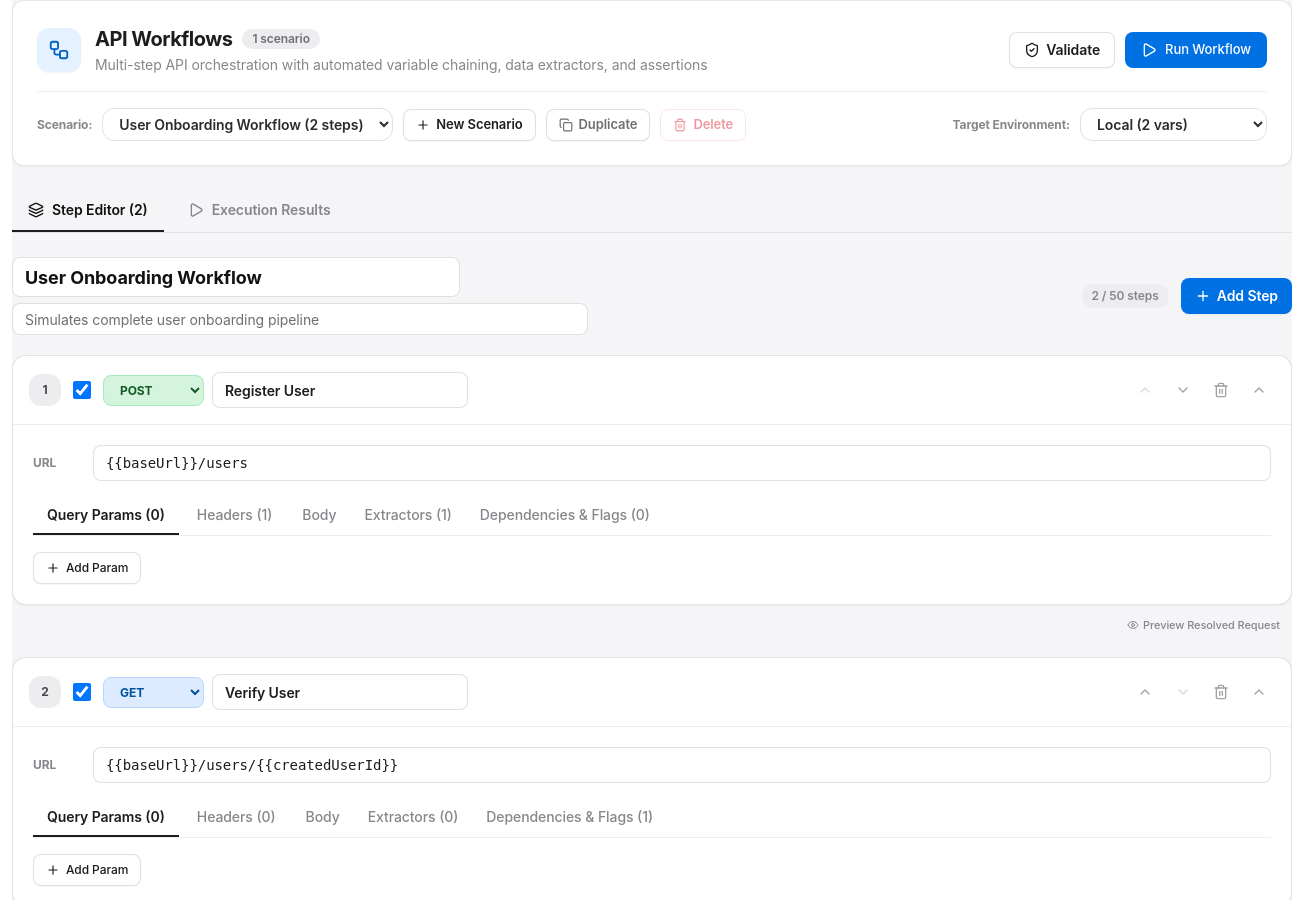
Test case: WorkflowsPage Component Tests › validates a workflow scenario structure via Validate button
Click the button "Validate". click: (1062, 50)
box: [1009,32,1115,68]
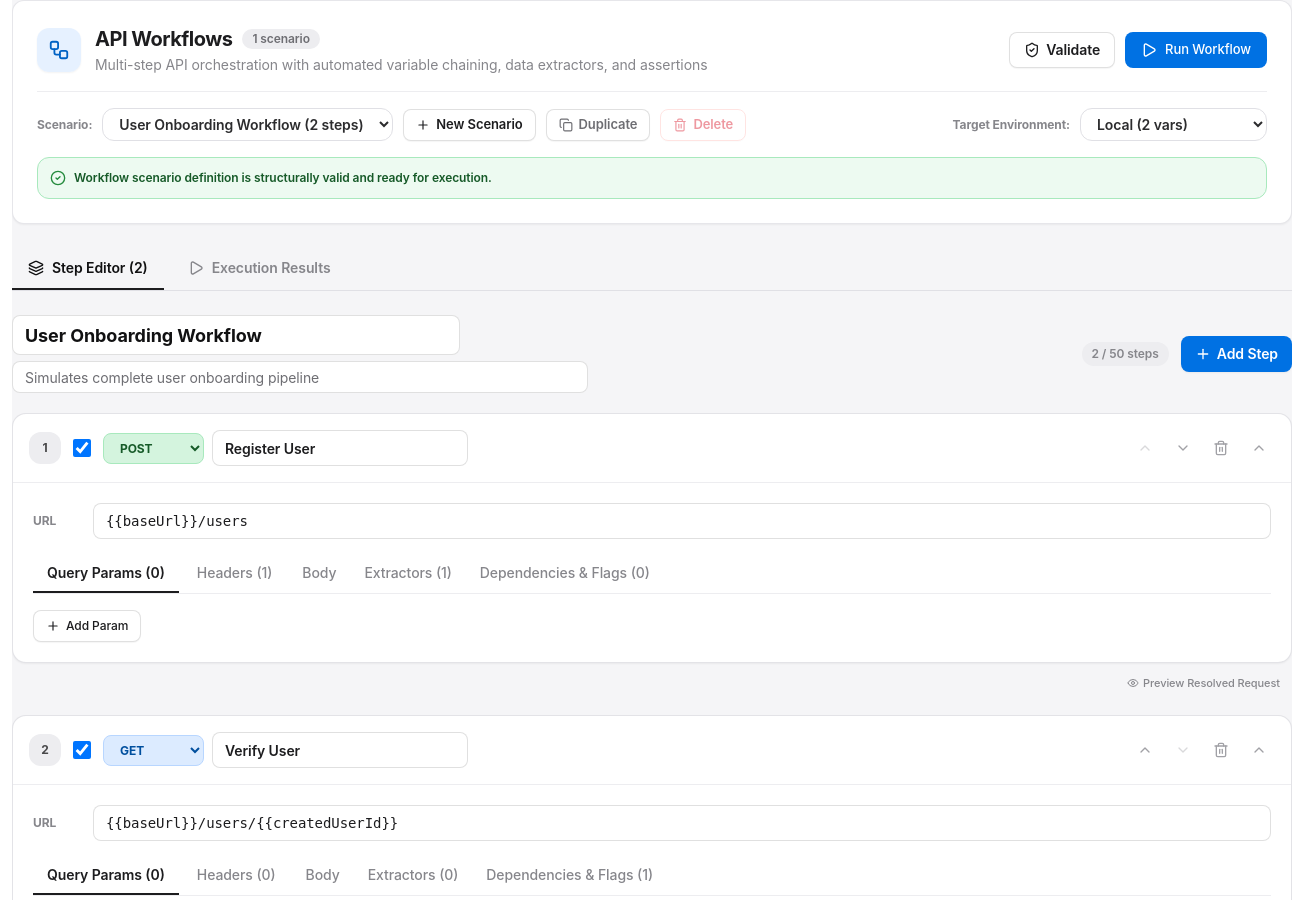
Check: the text "Workflow scenario definition is structurally valid" is shown, box [74,170,492,185]
